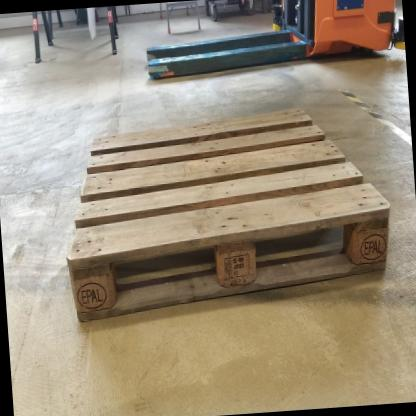BoxFace: (63, 100, 392, 331)
